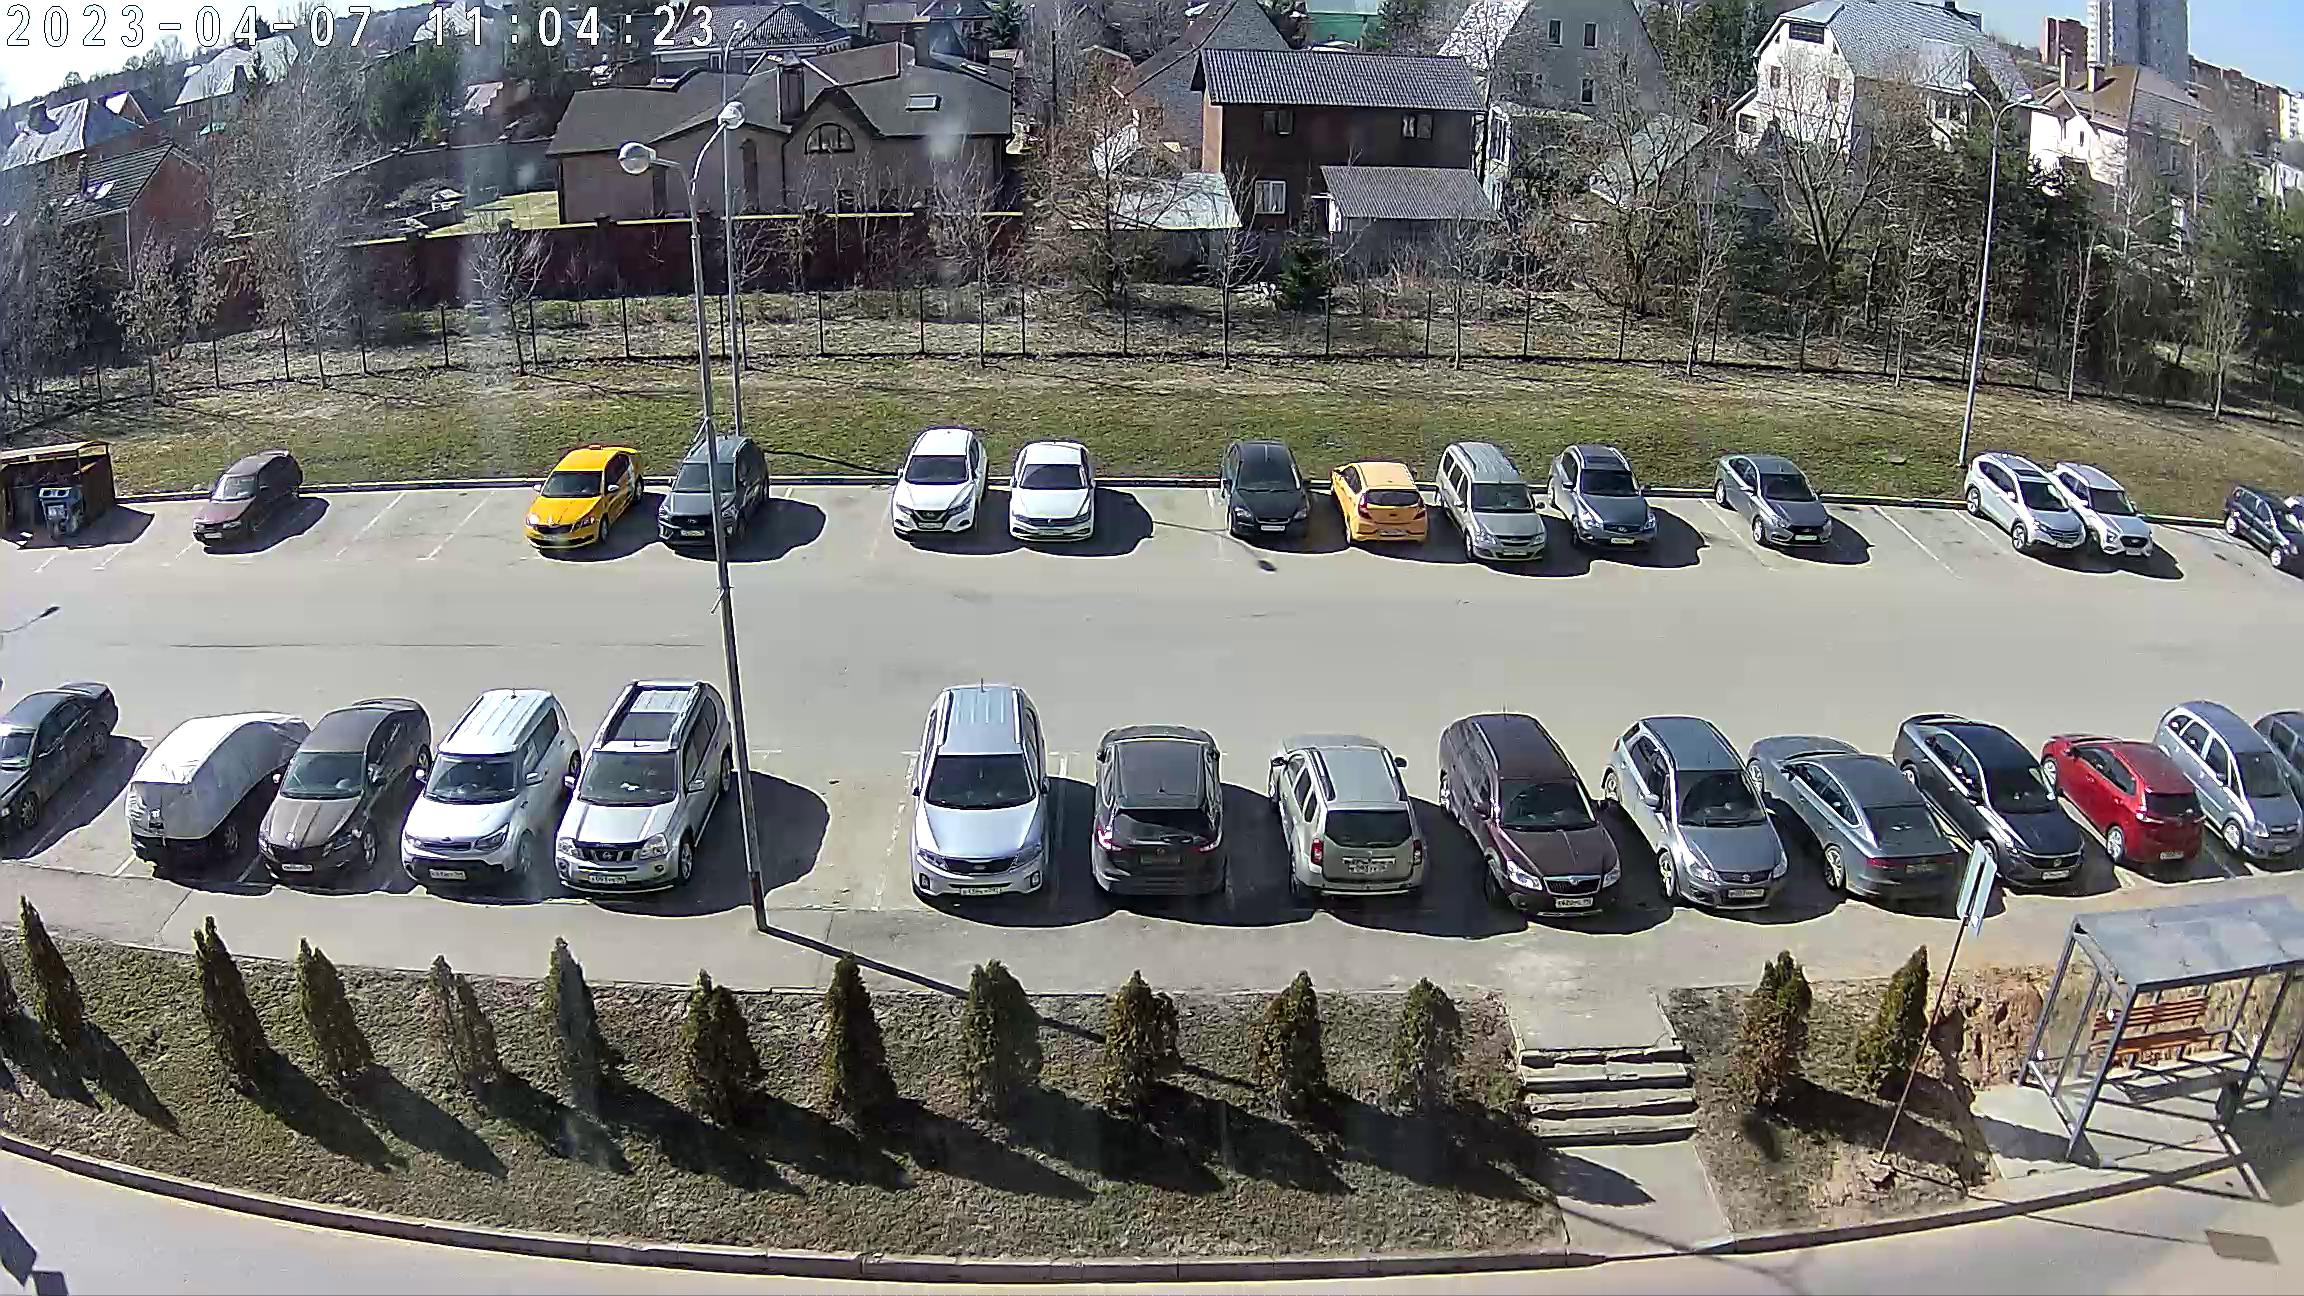empty: (883, 677, 1084, 904), (541, 677, 744, 897), (1440, 718, 1650, 919), (1609, 723, 1818, 916), (378, 698, 567, 880), (1071, 723, 1260, 902), (1912, 725, 2106, 892), (1779, 742, 1978, 905), (241, 703, 413, 891), (1275, 739, 1456, 904), (2160, 693, 2304, 873), (108, 718, 274, 870), (1962, 457, 2179, 571), (2049, 733, 2204, 875), (3, 687, 119, 850), (1722, 459, 1866, 568), (1440, 448, 1563, 562), (1548, 448, 1669, 560), (635, 446, 763, 551), (1217, 453, 1334, 552), (991, 453, 1106, 552), (878, 438, 992, 538), (182, 468, 310, 552), (3, 1187, 92, 1296), (1337, 467, 1445, 548), (517, 491, 636, 557), (2236, 487, 2304, 581)
occupied: (764, 791, 905, 892), (55, 736, 139, 873), (1894, 475, 1995, 567), (783, 462, 878, 549), (2152, 494, 2236, 592), (294, 453, 366, 568), (1112, 468, 1212, 551), (1647, 468, 1730, 562), (1828, 478, 1894, 560), (142, 486, 207, 567), (378, 503, 475, 546), (462, 506, 540, 544)
